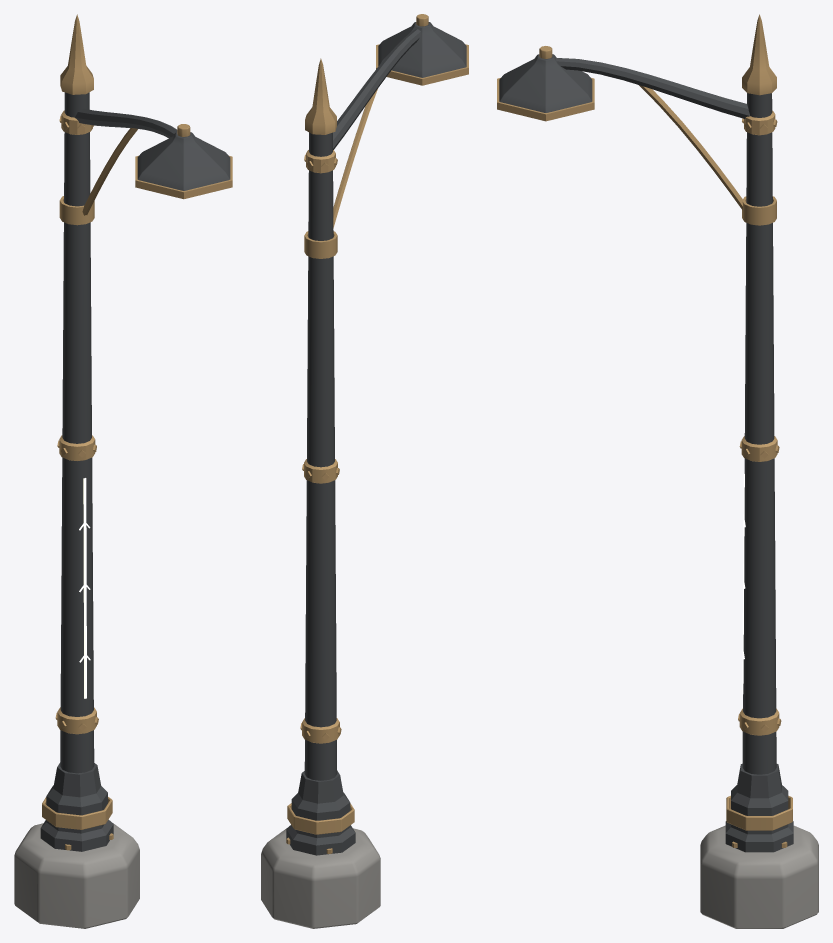
The model's file is kit_lamppost.glb.
3 renders of one model, left to right at view 1: azimuth 30°, elevation 25°; view 2: azimuth 150°, elevation 25°; view 3: azimuth 270°, elevation 25°, orthographic. The views are drawn at different scales.
Visible parts, largest first — view 1: kit_lamppost_metal, kit_lamppost_concrete, kit_lamppost_bronze_metal, kit_lamppost_glow; view 2: kit_lamppost_metal, kit_lamppost_concrete, kit_lamppost_bronze_metal; view 3: kit_lamppost_metal, kit_lamppost_concrete, kit_lamppost_bronze_metal.
Part boxes in pixels (x1,y1,x2,y2): kit_lamppost_metal: [40, 92, 230, 851]; kit_lamppost_concrete: [14, 823, 139, 928]; kit_lamppost_bronze_metal: [42, 14, 232, 850]; kit_lamppost_glow: [79, 478, 90, 698]; kit_lamppost_metal: [286, 22, 466, 855]; kit_lamppost_concrete: [261, 828, 380, 928]; kit_lamppost_bronze_metal: [286, 14, 468, 853]; kit_lamppost_metal: [499, 54, 793, 852]; kit_lamppost_concrete: [700, 825, 818, 928]; kit_lamppost_bronze_metal: [497, 14, 792, 847].
Size of the model in its own units: 0.6098 by 5.06 by 1.66.
